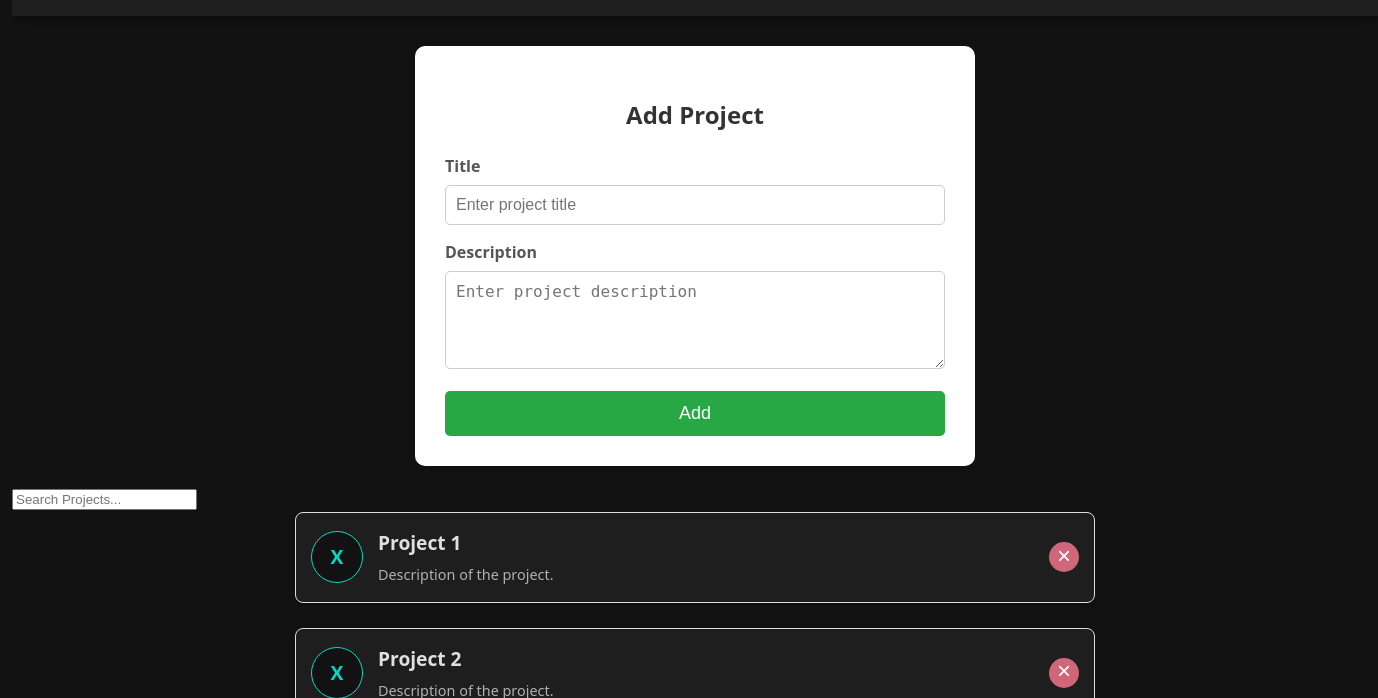
Test case: can add a new project
# Fill form
Type "Test Project" into the field labelled "Title". click: (695, 205)
box: [445,185,945,225]
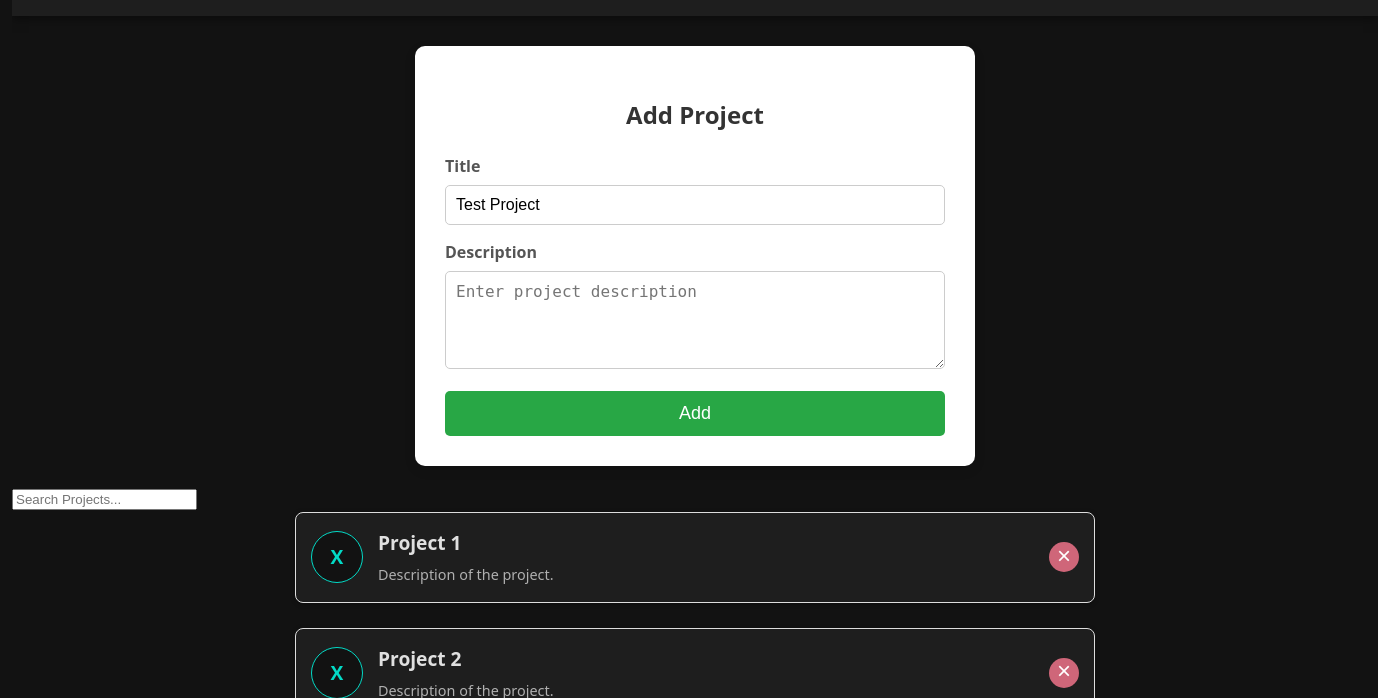
Type "Test Description" into the text box labelled "Description". click: (695, 320)
box: [445,270,945,368]
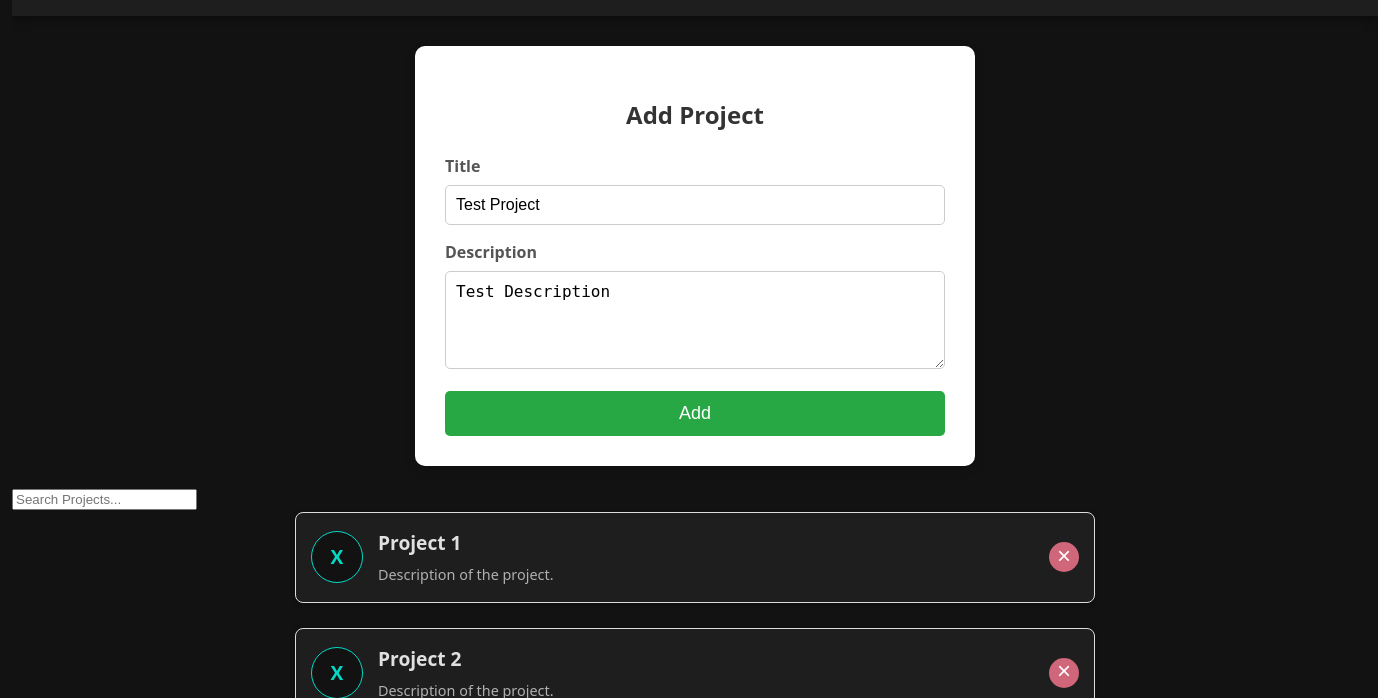
Click the button "Add". click: (695, 414)
box: [445,391,945,436]
(page scrolled)
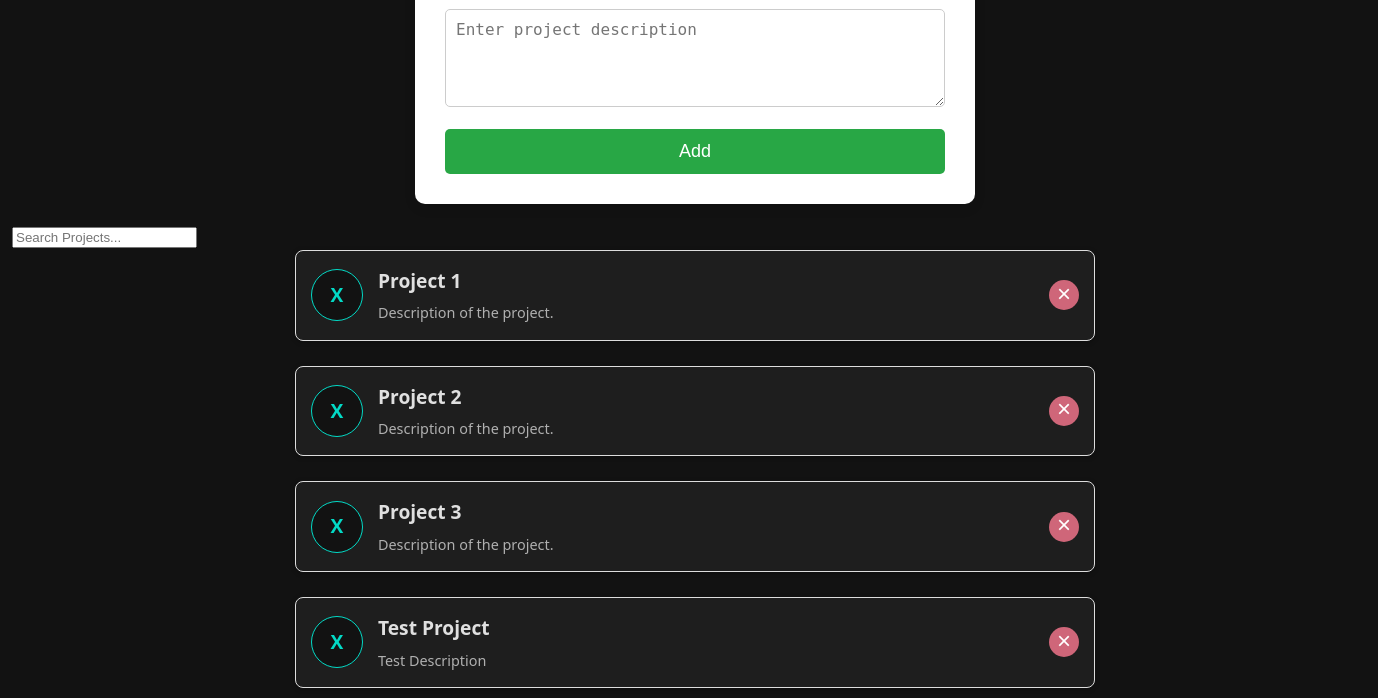
Expected: the heading "Test Project" is shown, [378,614,490,641]
Expected: the text "Test Description" is shown, [378,651,486,670]
